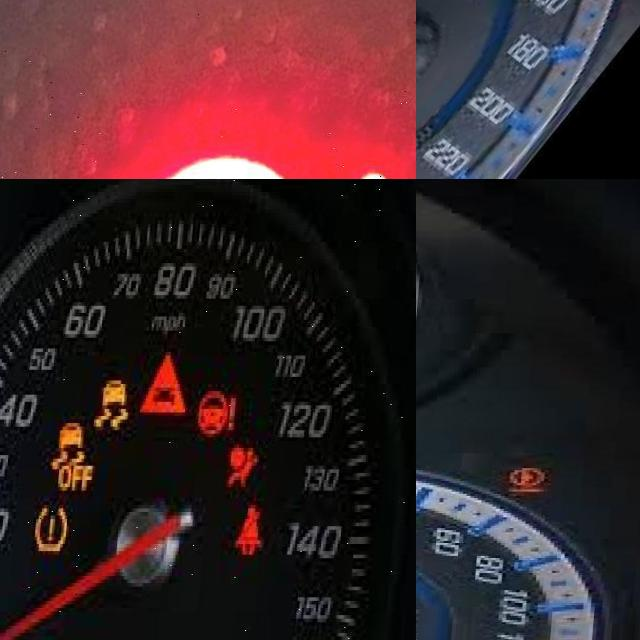Electronic Power Steering: (512, 464, 555, 498)
Electronic Power Steering Warning: (199, 390, 245, 438)
Seat Belt: (243, 508, 270, 556)
